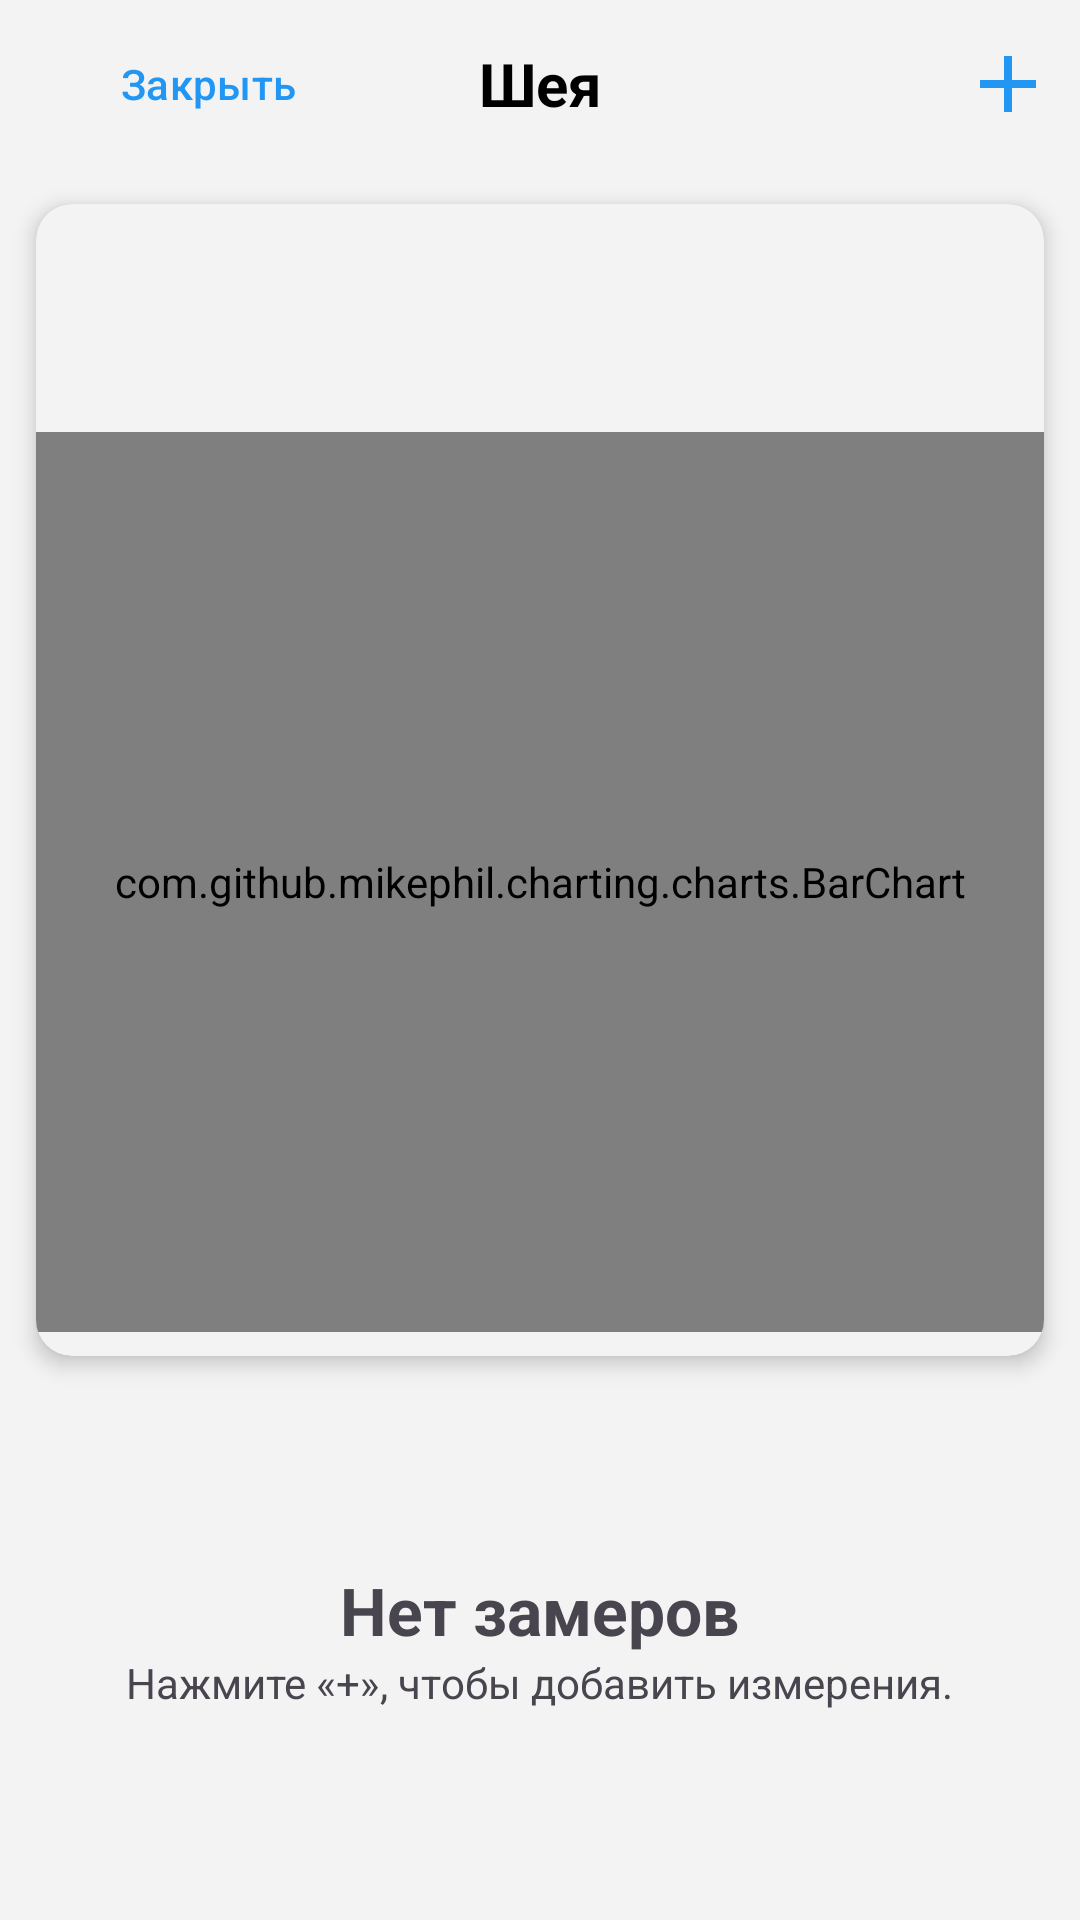

Locate icon controls on the screen. Image size 1080×1920, boxes as bbox=(x1, y1, x2, y2).
add for body: bbox=(980, 56, 1036, 112)
